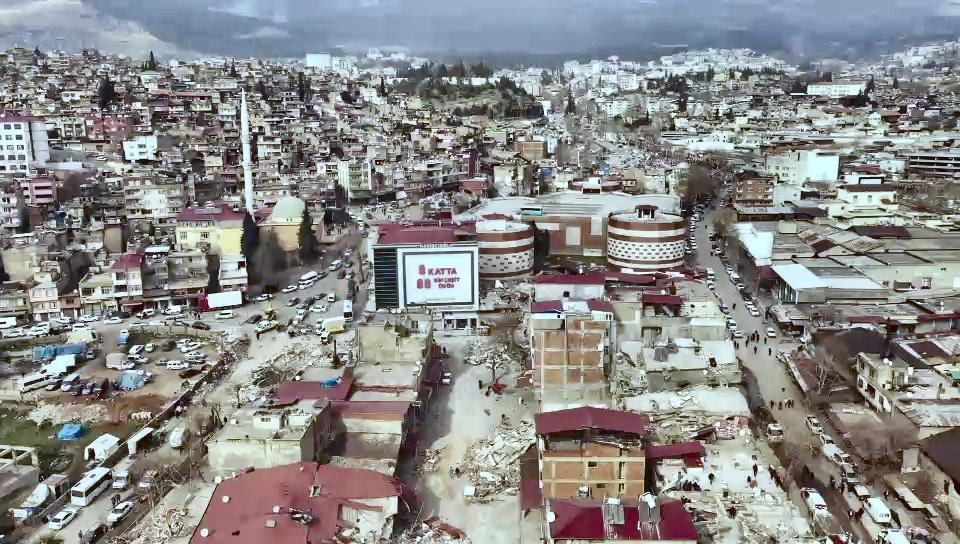kapali: (396, 400, 537, 523), (117, 492, 212, 543)
